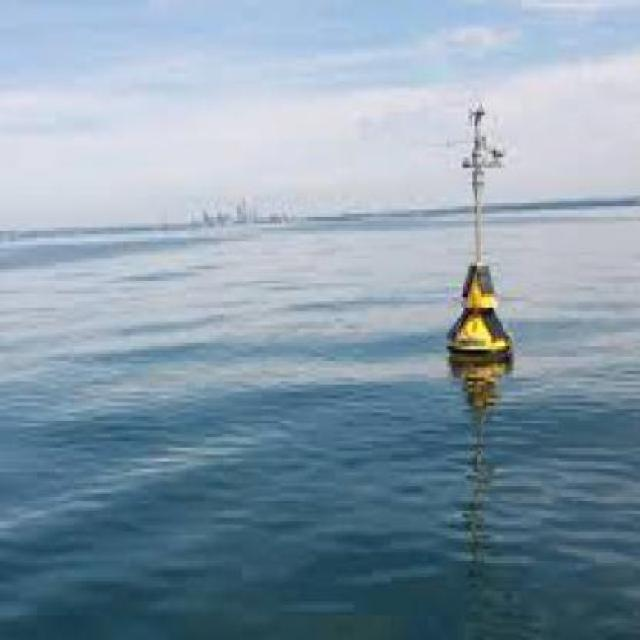buoy: (438, 70, 536, 383)
